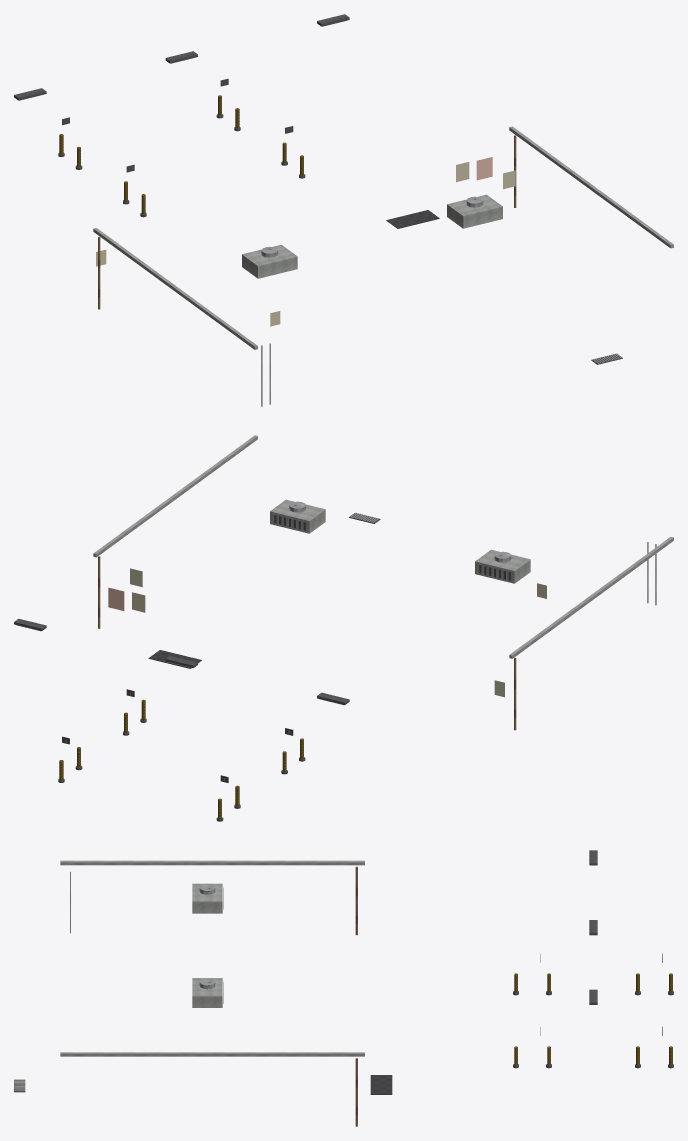
Rendered from station_details.glb.
3 renders of one model, top to bottom at view 1: azimuth 30°, elevation 25°; view 2: azimuth 150°, elevation 25°; view 3: azimuth 270°, elevation 25°, orthographic. The views are drawn at different scales.
Parts seen in each view (by area): view 1: Pump guard.008; view 2: Pump guard.008; view 3: Pump guard.008.
Boxes of the visible parts, bbox=[...] form: Pump guard.008: bbox=[14, 14, 673, 406]; Pump guard.008: bbox=[14, 435, 673, 821]; Pump guard.008: bbox=[14, 850, 673, 1126].
Bounding box in the file's own units: 17.98 × 4.52 × 25.99.
13 materials, 13 textured.
